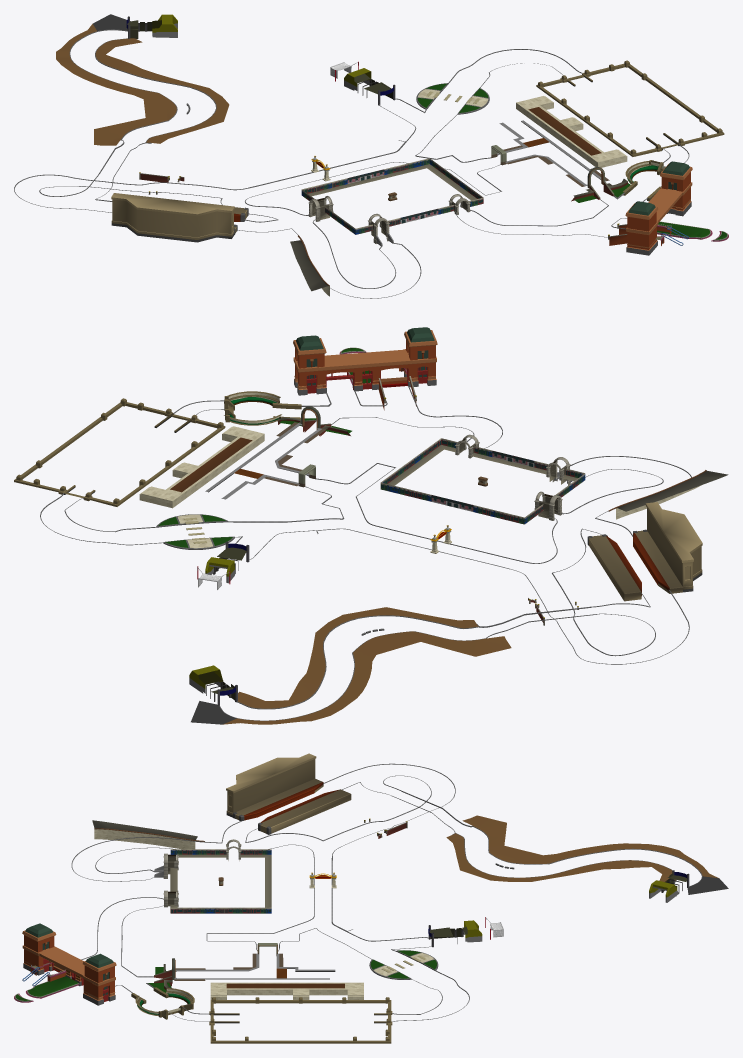
File: SM_PlazaMayor_Down.fbx
The picture shows the model from 3 angles, top to bottom: view 1: azimuth 30°, elevation 25°; view 2: azimuth 150°, elevation 25°; view 3: azimuth 270°, elevation 25°; orthographic projection. The views are drawn at different scales.
Visible parts, largest first — view 1: BuildingN_set1; view 2: BuildingN_set1; view 3: BuildingN_set1.
Boxes of the visible parts, box(x1,y1,x2,y2) form: BuildingN_set1: box(14, 14, 728, 298); BuildingN_set1: box(14, 327, 728, 724); BuildingN_set1: box(14, 753, 728, 1043).
Bounding box in the file's own units: 842 × 71.04 × 930.
